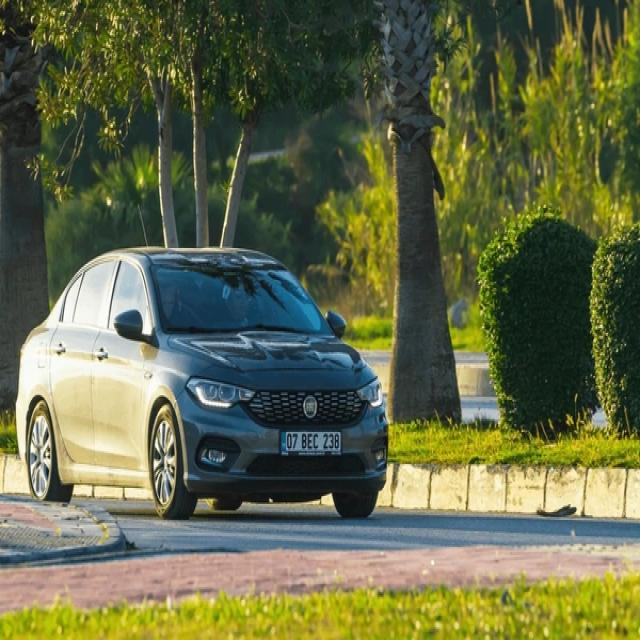fiat: (300, 391, 322, 419)
